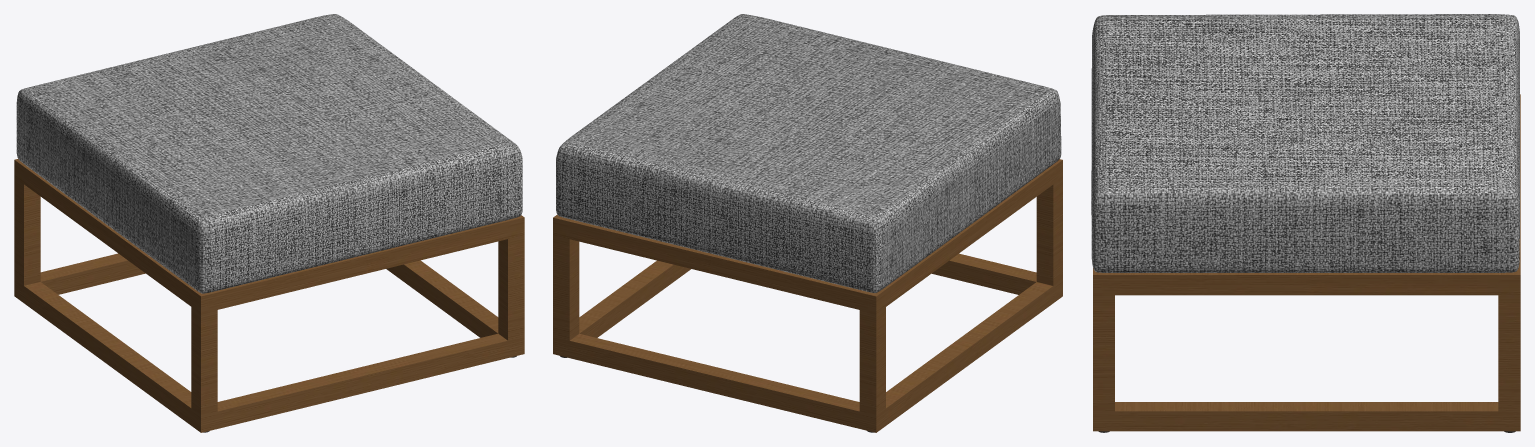
3 renders of one model, left to right at view 1: azimuth 30°, elevation 25°; view 2: azimuth 150°, elevation 25°; view 3: azimuth 270°, elevation 25°, orthographic. The views are drawn at different scales.
Visible parts, largest first — view 1: C-skp7E2E; view 2: C-skp7E2E; view 3: C-skp7E2E.
Boxes of the visible parts, left/top/right/bottom form: C-skp7E2E: left=14, top=14, right=524, bottom=432; C-skp7E2E: left=553, top=14, right=1062, bottom=432; C-skp7E2E: left=1091, top=14, right=1520, bottom=432.
Size of the model in its own units: 0.6279 by 0.3942 by 0.6283.
Materials: 3 (2 with a texture image).
